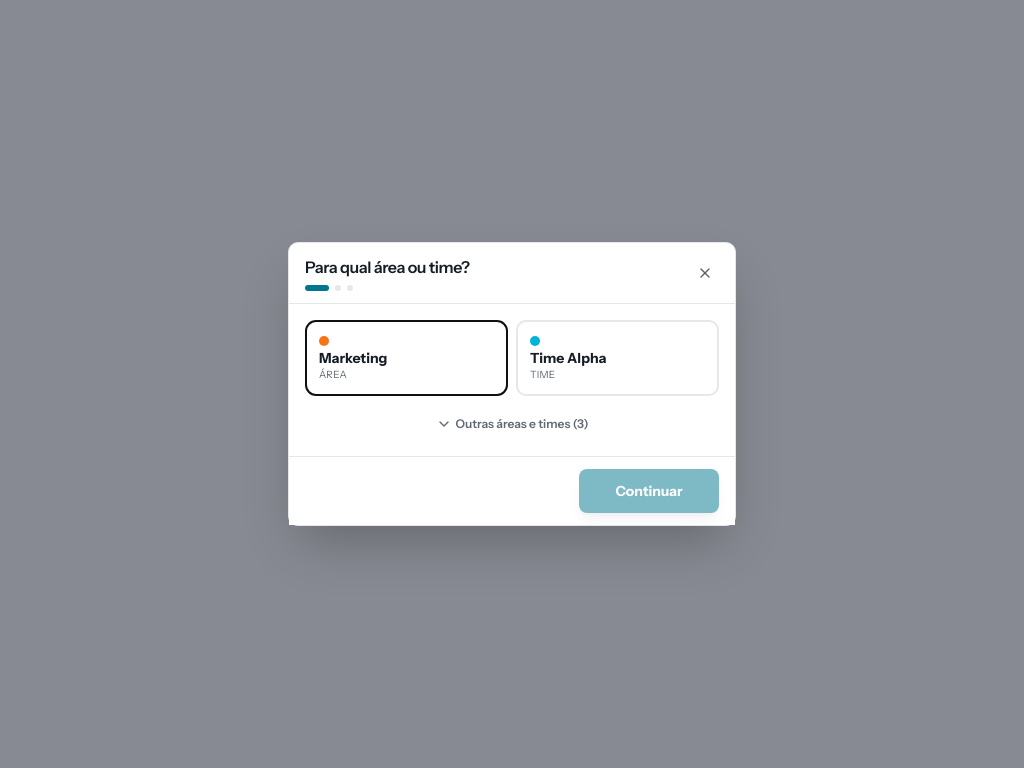
Scenario: enviar uma demanda para si › Enter no nome leva ao passo do prazo — o fluxo do computador
The image size is (1024, 768).
Click the button "Marketing Área": [406, 358] box x1=305 y1=320 x2=508 y2=396
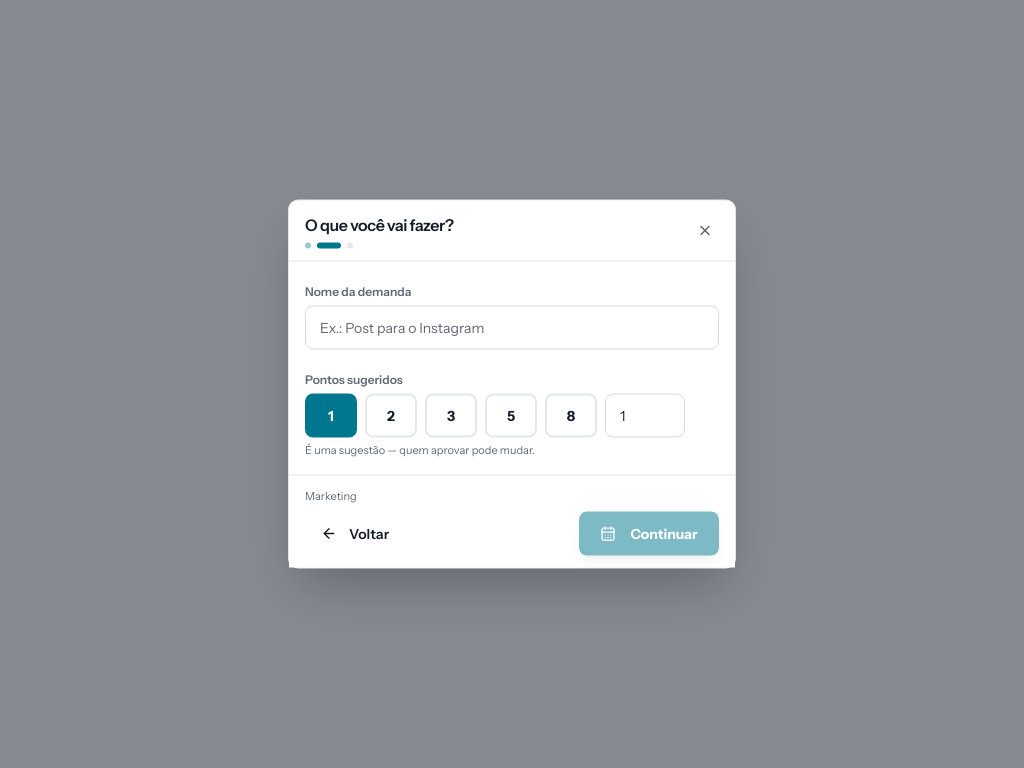
In the field labelled "Nome da demanda": [512, 328] box x1=305 y1=306 x2=719 y2=350, type "Post"
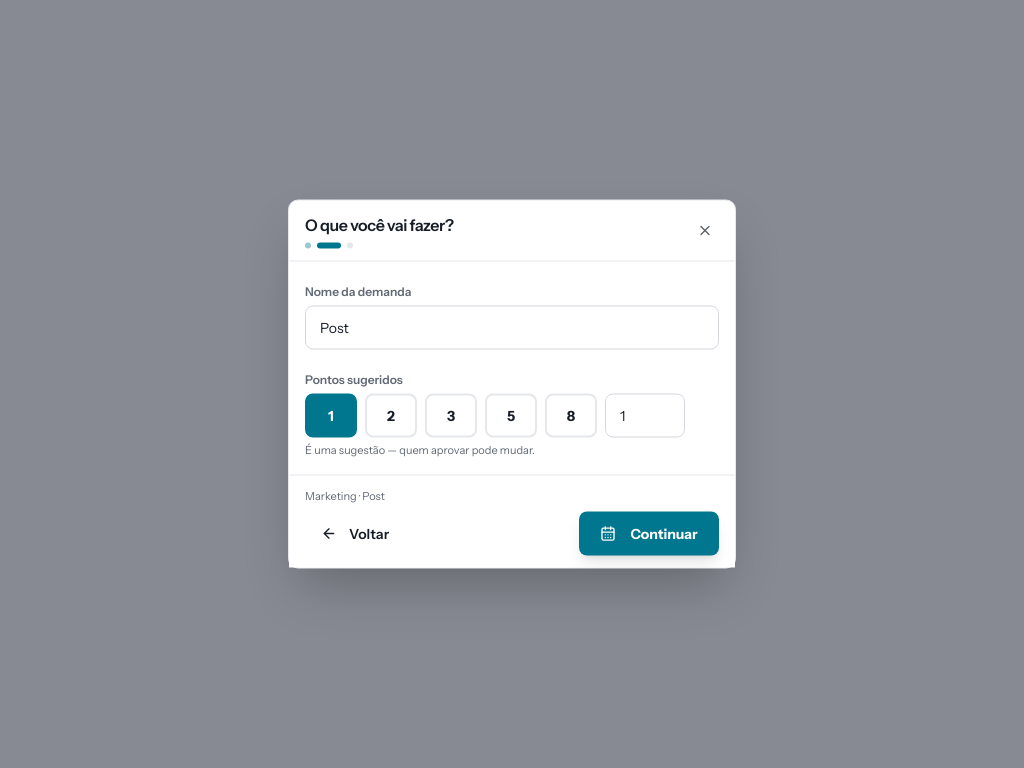
Press Enter in the field labelled "Nome da demanda", box x1=305 y1=306 x2=719 y2=350
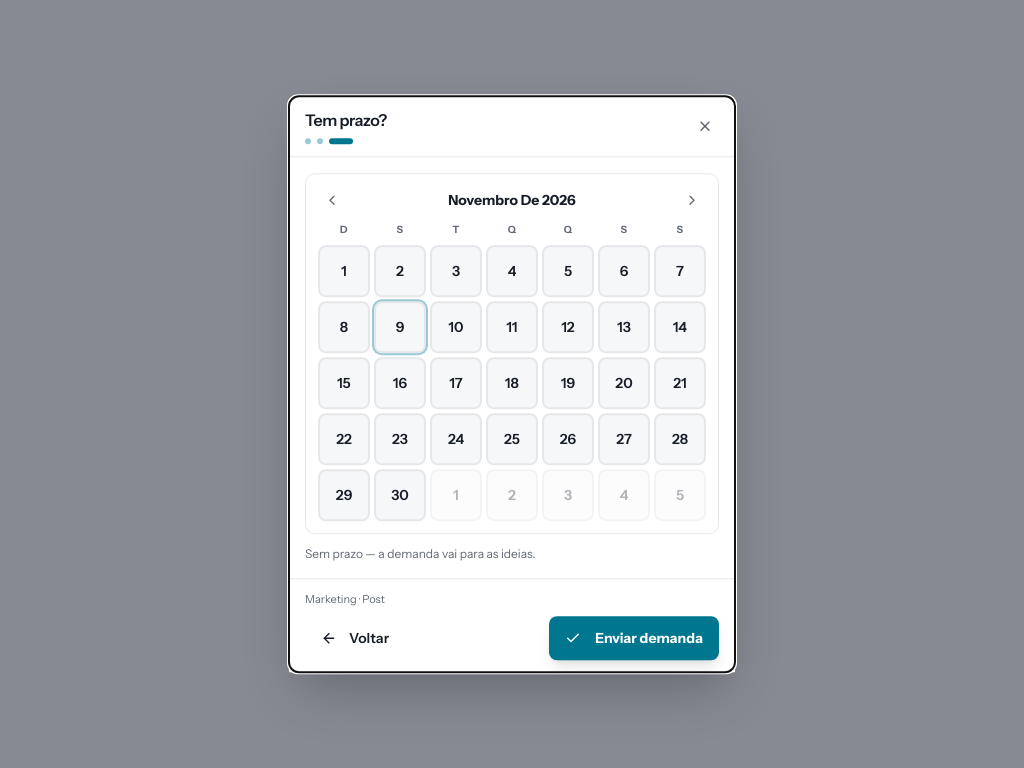
Expected: the heading "Tem prazo?" is shown, x1=305 y1=110 x2=387 y2=130
